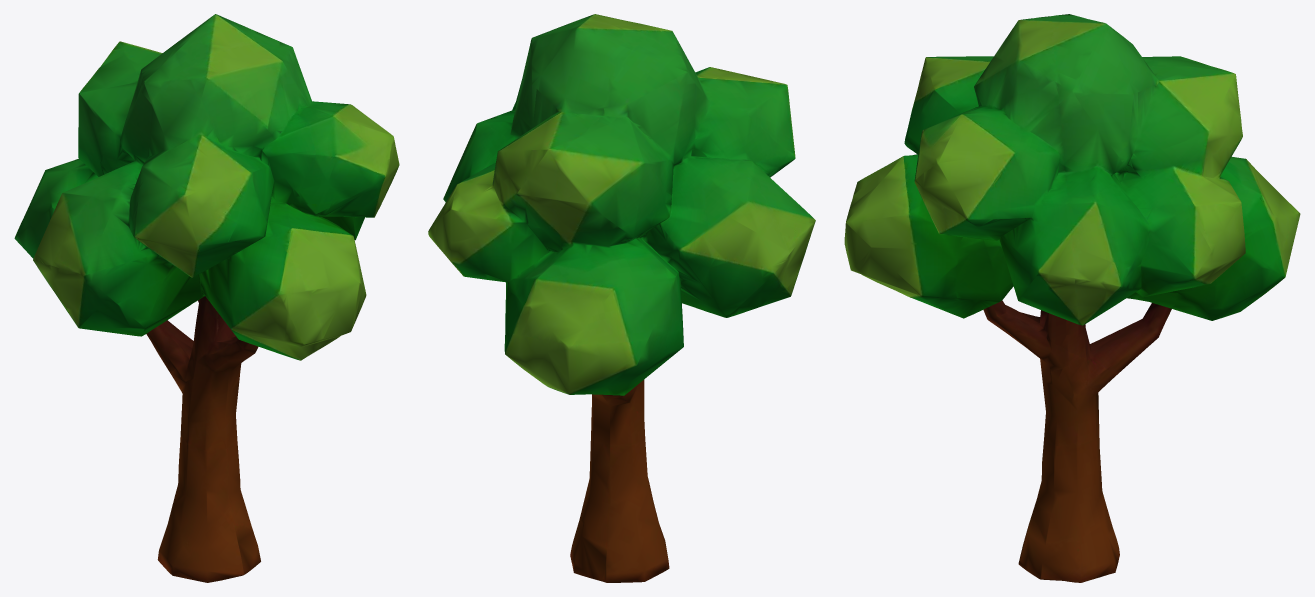
The model's file is tree.glb.
The picture shows the model from 3 angles, left to right: view 1: azimuth 30°, elevation 25°; view 2: azimuth 150°, elevation 25°; view 3: azimuth 270°, elevation 25°; orthographic projection. The views are drawn at different scales.
Parts seen in each view (by area): view 1: tripo_node_60a95768-03f5-467c-959a-9901cec9f73b; view 2: tripo_node_60a95768-03f5-467c-959a-9901cec9f73b; view 3: tripo_node_60a95768-03f5-467c-959a-9901cec9f73b.
Part boxes in pixels (left/top/right/bottom): tripo_node_60a95768-03f5-467c-959a-9901cec9f73b: left=14, top=14, right=399, bottom=582; tripo_node_60a95768-03f5-467c-959a-9901cec9f73b: left=428, top=14, right=815, bottom=582; tripo_node_60a95768-03f5-467c-959a-9901cec9f73b: left=844, top=14, right=1300, bottom=582.
Size of the model in its own units: 0.6319 by 0.9997 by 0.7511.
Materials: 1 (1 with a texture image).
